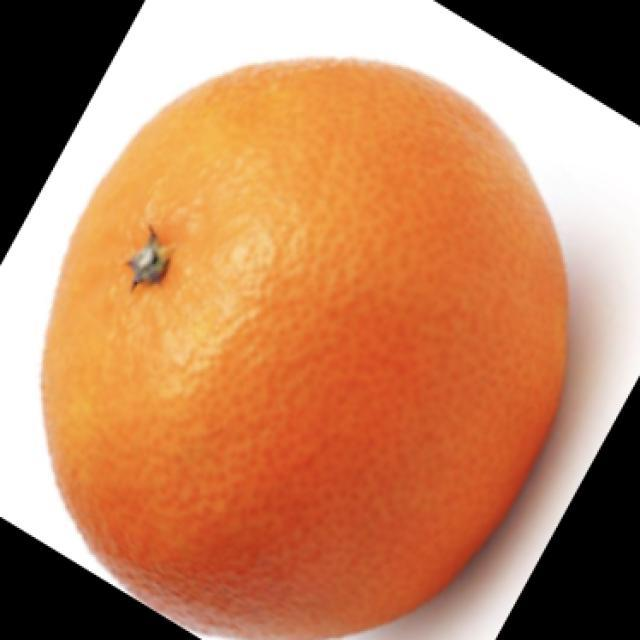Orange: (39, 54, 570, 639)
